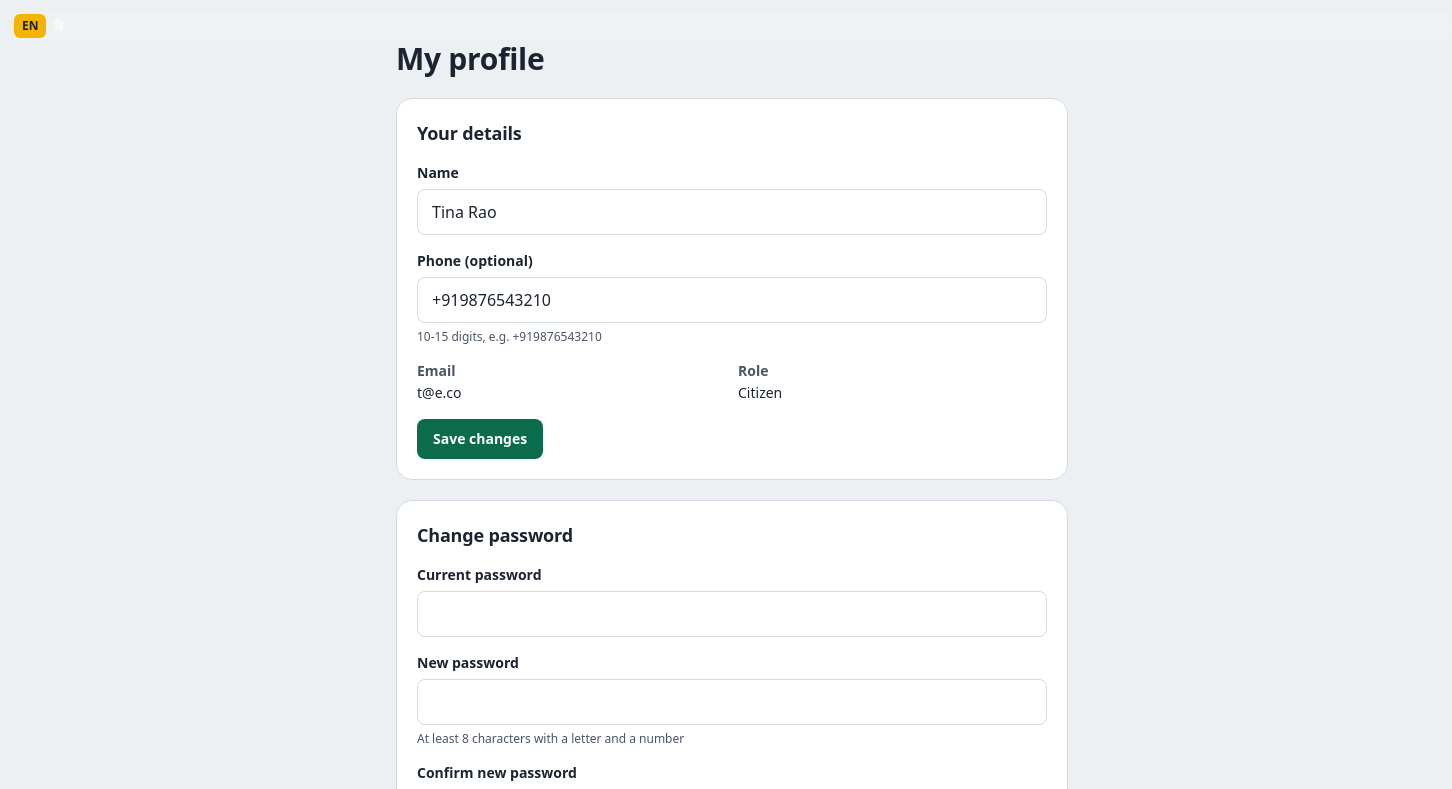
Test: profile page › switches to Hindi and remembers it
Check: the field labelled "Name" is shown, box [417,188,1047,234]
Step 1. Click the button named "हिन्दी" → (59, 26), box [46,14,71,38]
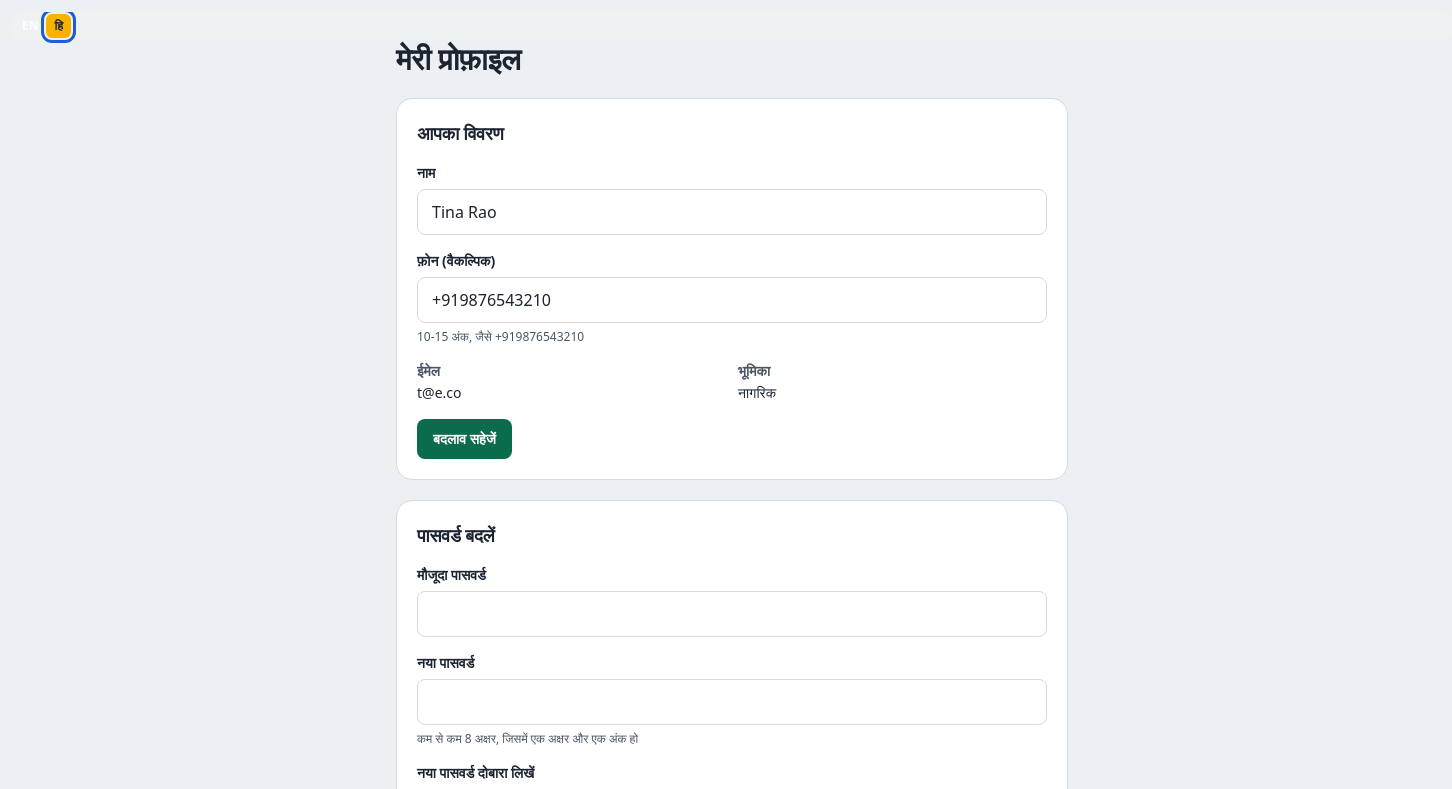
Check: the heading "मेरी प्रोफ़ाइल" is shown, box [396,40,521,78]
